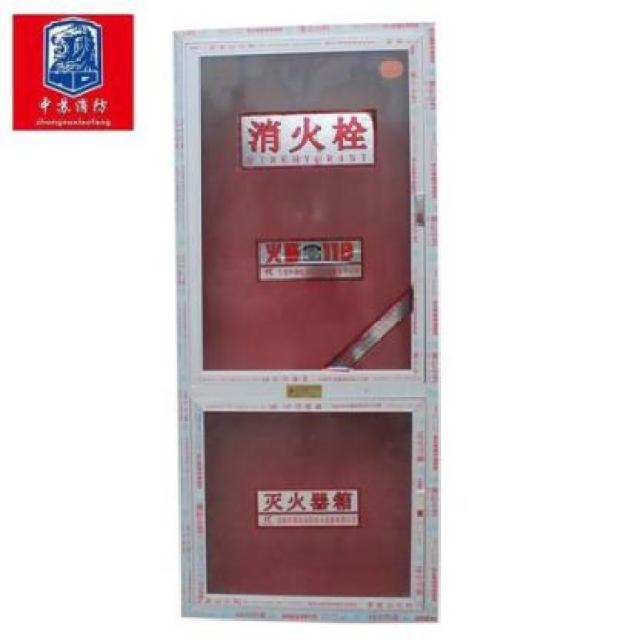firehydrant: (168, 16, 444, 630)
